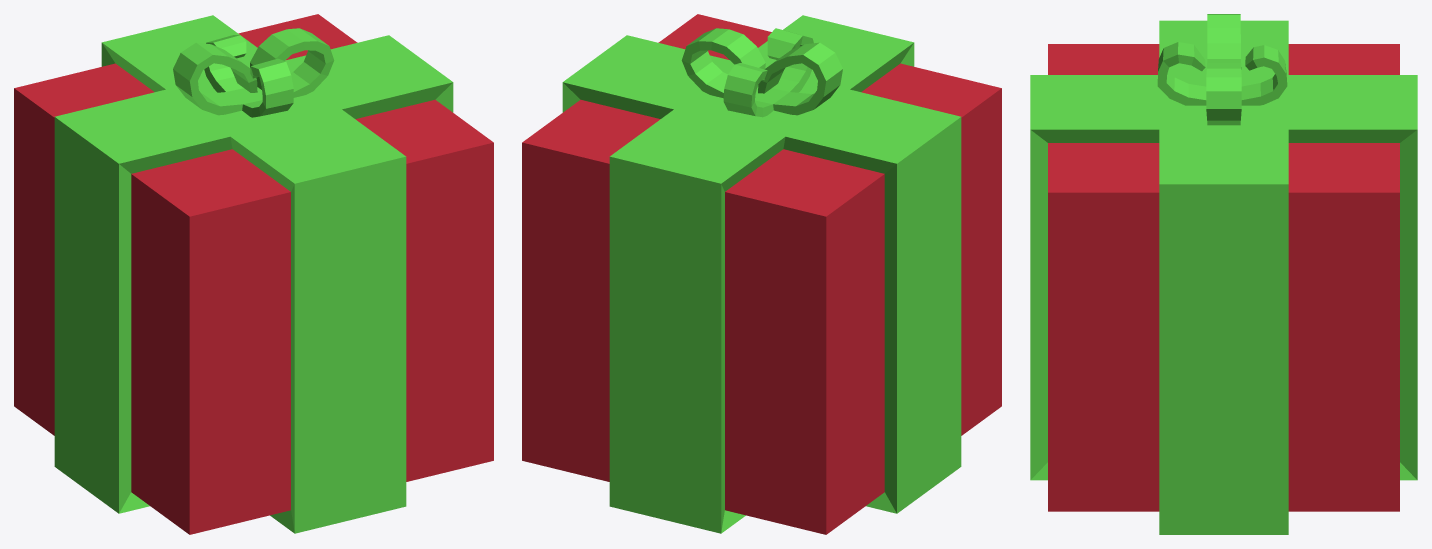
Rendered from cadeau.fbx.
The picture shows the model from 3 angles, left to right: view 1: azimuth 30°, elevation 25°; view 2: azimuth 150°, elevation 25°; view 3: azimuth 270°, elevation 25°; orthographic projection.
Parts seen in each view (by area): view 1: Cube; view 2: Cube; view 3: Cube.
Boxes of the visible parts, x1,y1,x2,y2 form: Cube: (14,14,493,534); Cube: (522,14,1001,534); Cube: (1030,14,1417,534).
Size of the model in its own units: 220 by 259 by 220.
